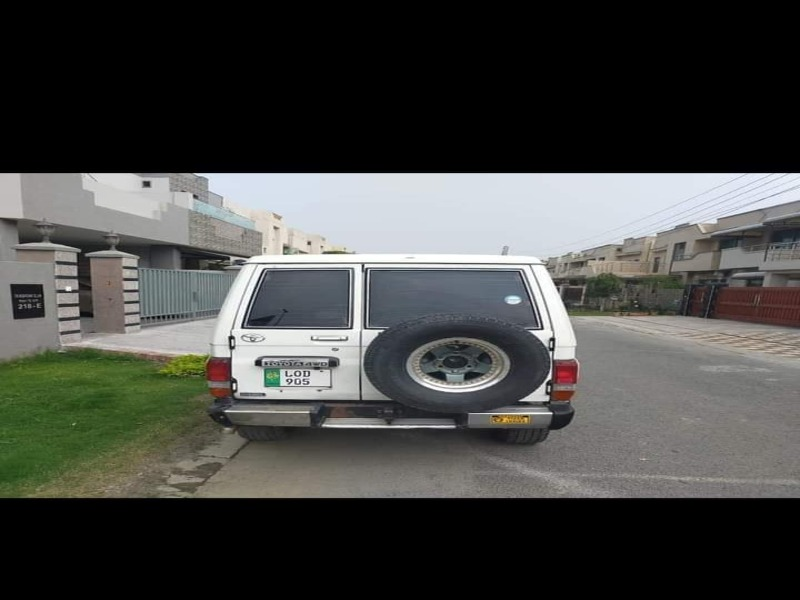License Plate: (263, 367, 336, 390)
